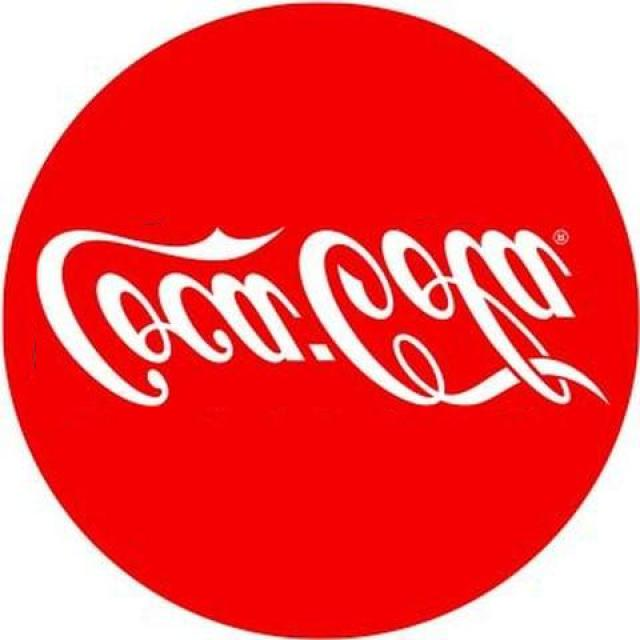coca-cola: (36, 225, 612, 407)
